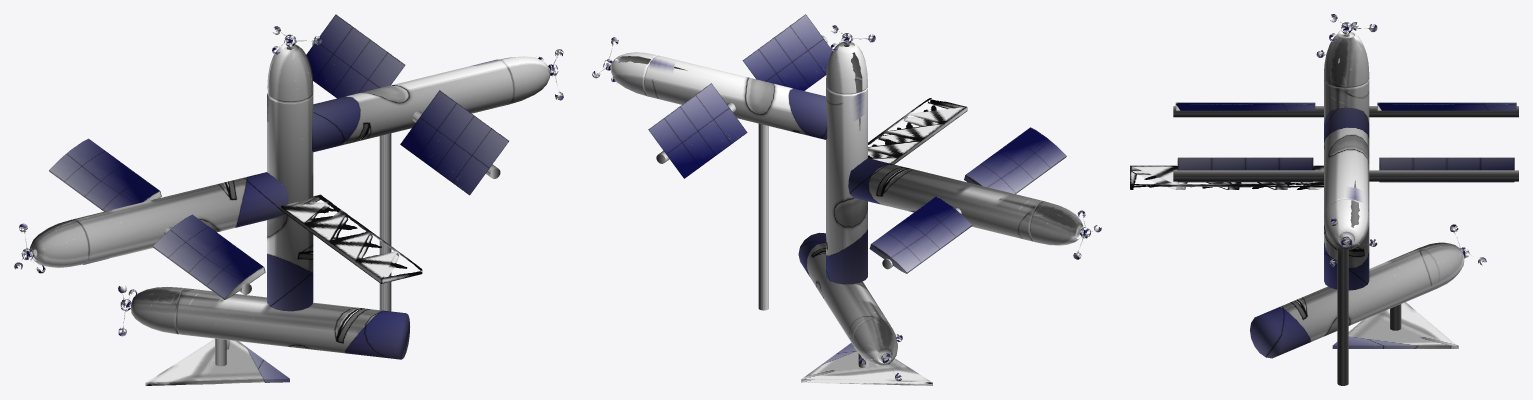
File: spacestation_background.fbx
3 views of the same model, side by side, from view 1: azimuth 30°, elevation 25°; view 2: azimuth 150°, elevation 25°; view 3: azimuth 270°, elevation 25° (orthographic). The views are drawn at different scales.
Visible parts, largest first — view 1: Cylinder.005, Cylinder.001, Cylinder, Cylinder.006, Plane, Plane.001, Cylinder.003, Cylinder.004, Cube, Plane.002, Cylinder.009; view 2: Cylinder, Cylinder.001, Cylinder.006, Cylinder.005, Plane.001, Plane, Cylinder.004, Cylinder.003, Cube, Plane.002, Cylinder.009; view 3: Cylinder.005, Cylinder.006, Cylinder, Cylinder.007, Plane.002, Cylinder.002, Plane, Plane.001, Cube, Cylinder.009, Cylinder.003, Cylinder.004.
Part boxes in pixels (<box>): Cylinder.005: <box>118,286,409,359</box>; Cylinder.001: <box>14,172,288,273</box>; Cylinder: <box>267,26,321,311</box>; Cylinder.006: <box>312,49,563,152</box>; Plane: <box>400,90,508,195</box>; Plane.001: <box>306,14,405,98</box>; Cylinder.003: <box>152,214,265,299</box>; Cylinder.004: <box>49,138,161,211</box>; Cube: <box>280,194,422,283</box>; Plane.002: <box>145,339,289,385</box>; Cylinder.009: <box>379,133,391,311</box>; Cylinder: <box>826,25,875,284</box>; Cylinder.001: <box>848,158,1101,259</box>; Cylinder.006: <box>592,37,827,139</box>; Cylinder.005: <box>798,232,902,380</box>; Plane.001: <box>648,83,747,178</box>; Plane: <box>742,14,832,90</box>; Cylinder.004: <box>869,196,972,273</box>; Cylinder.003: <box>964,127,1066,193</box>; Cube: <box>868,98,967,164</box>; Plane.002: <box>801,343,932,385</box>; Cylinder.009: <box>758,123,768,310</box>; Cylinder.005: <box>1250,224,1486,358</box>; Cylinder.006: <box>1324,107,1377,267</box>; Cylinder: <box>1324,14,1377,290</box>; Cylinder.007: <box>1173,170,1518,181</box>; Plane.002: <box>1332,302,1458,348</box>; Cylinder.002: <box>1173,106,1518,117</box>; Plane: <box>1177,157,1313,182</box>; Plane.001: <box>1379,157,1514,182</box>; Cube: <box>1130,165,1323,189</box>; Cylinder.009: <box>1337,247,1348,385</box>; Cylinder.003: <box>1175,102,1315,110</box>; Cylinder.004: <box>1377,102,1516,110</box>.
Size of the model in its own units: 528 by 320 by 342.
